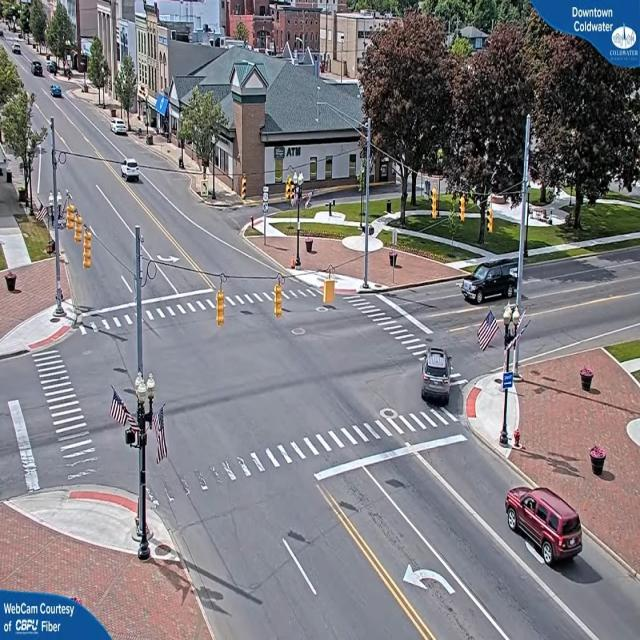car: (505, 490, 585, 568), (462, 262, 520, 304), (419, 348, 453, 403), (120, 160, 142, 184), (112, 121, 131, 138), (31, 62, 44, 77), (51, 85, 64, 98), (13, 45, 23, 55)
